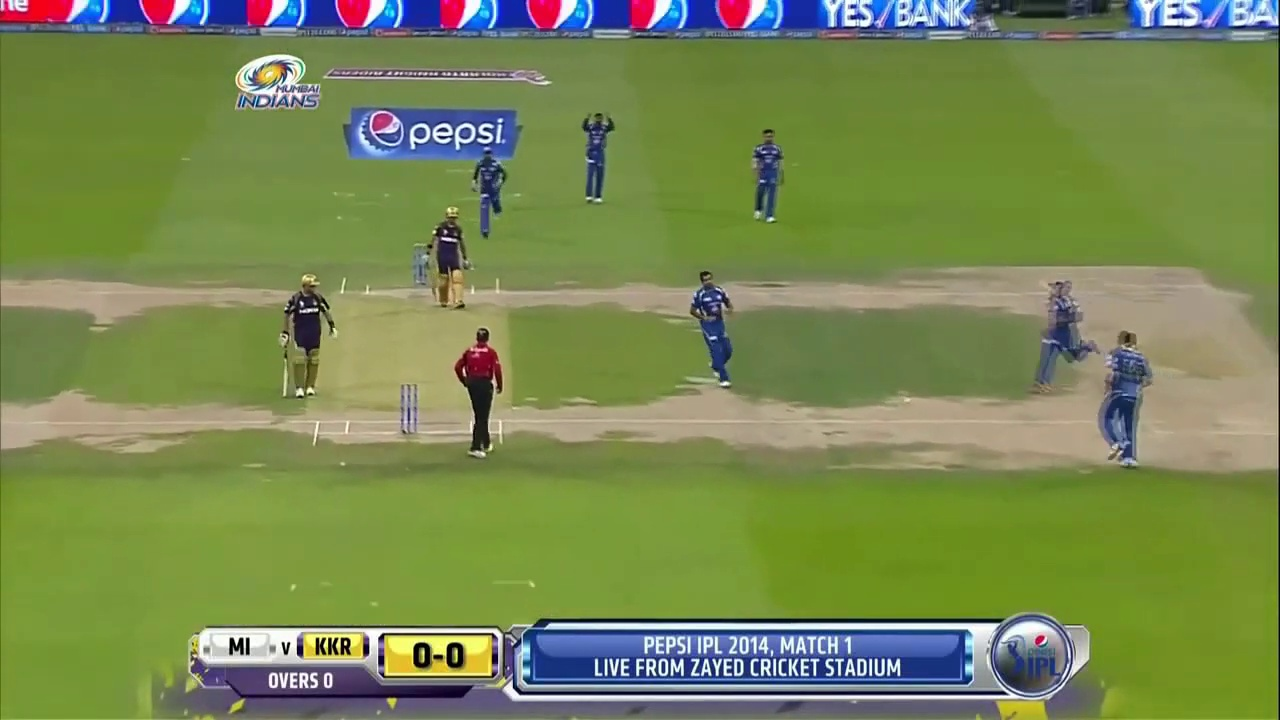bat: (282, 349, 289, 397)
stumps: (399, 382, 419, 436)
